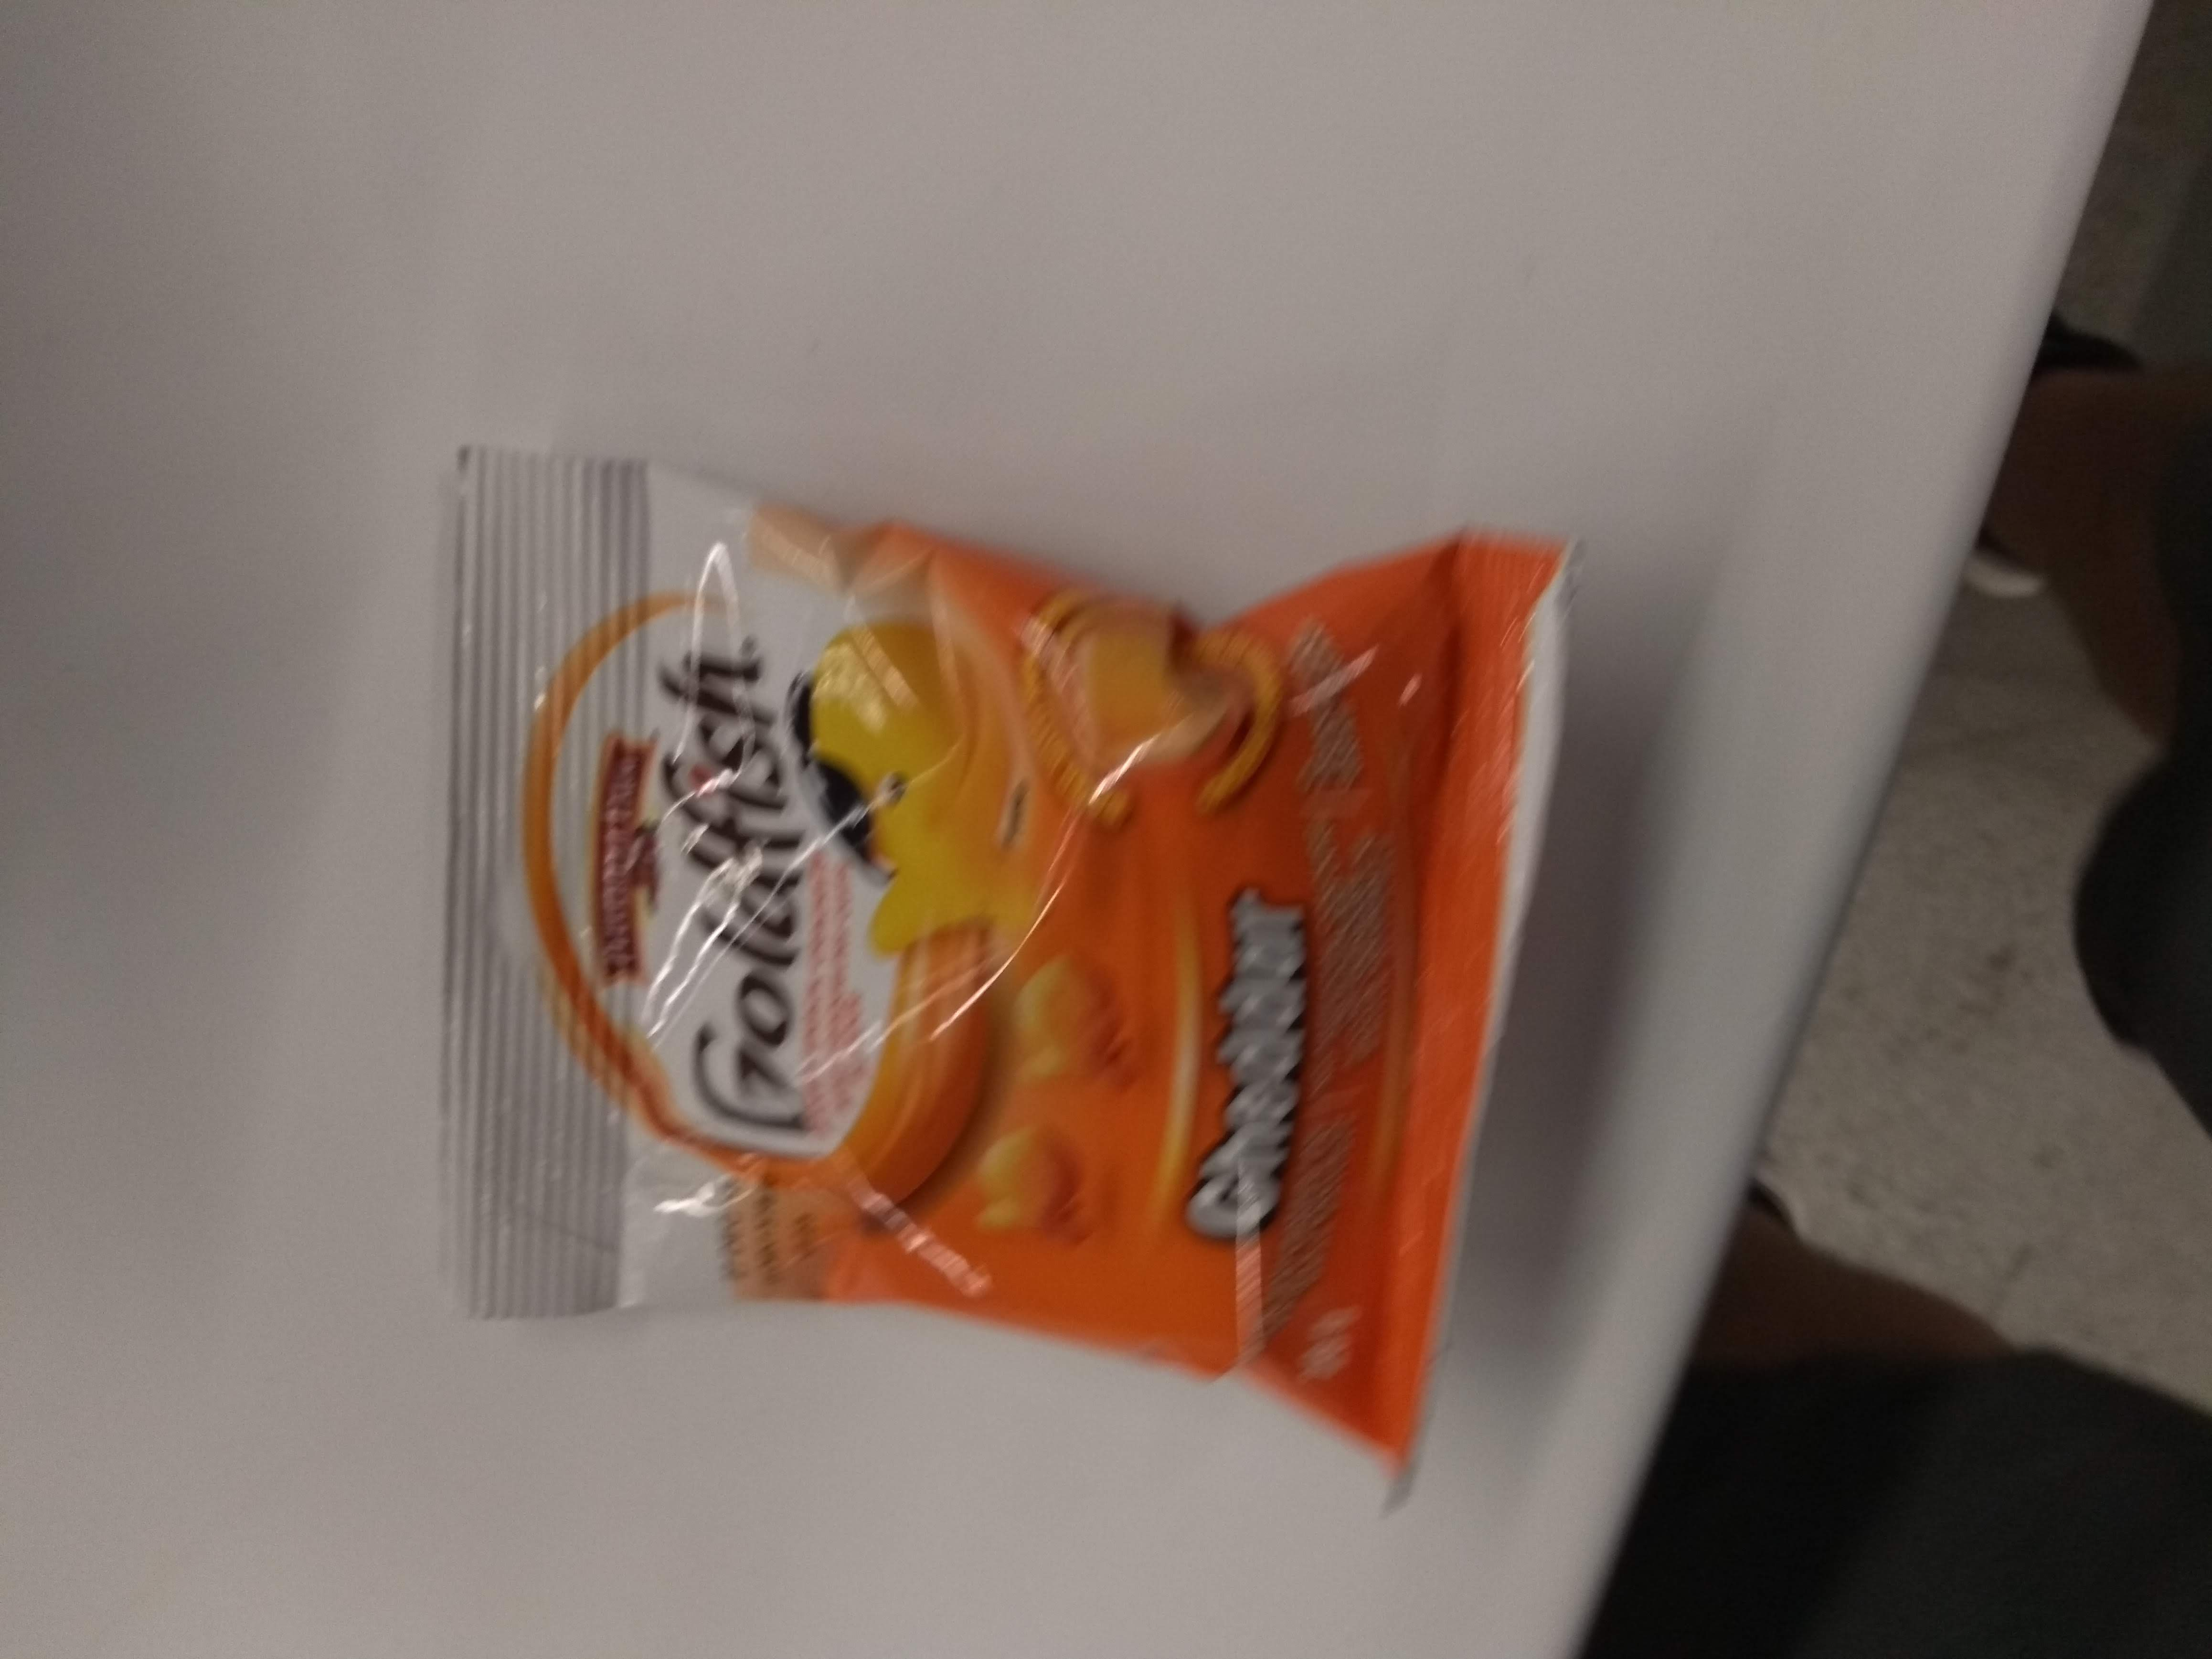crackers: (423, 423, 1587, 1527)
